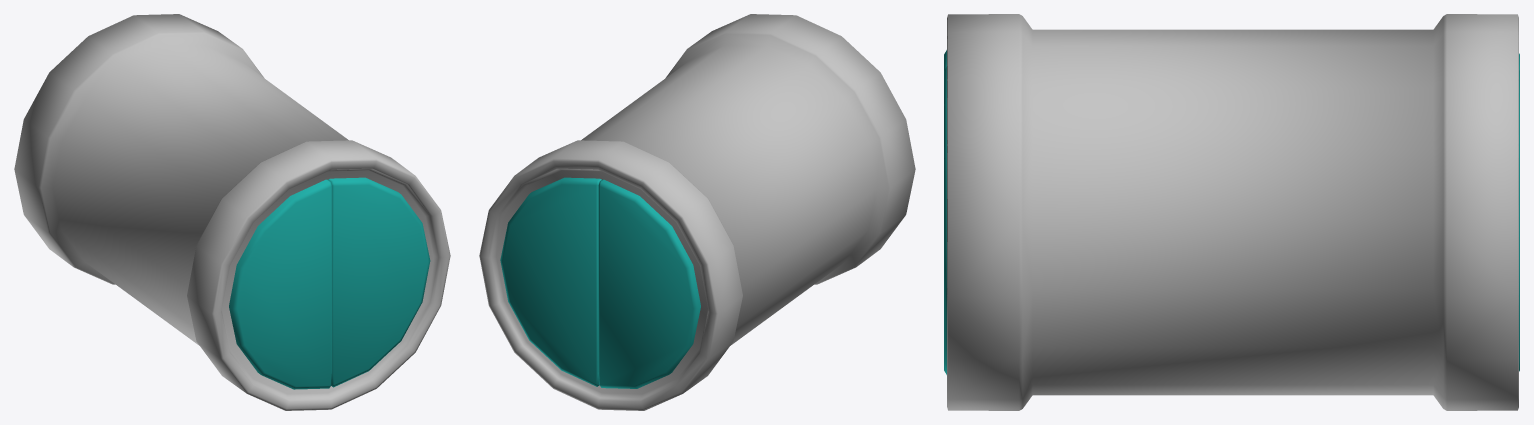
3 views of the same model, side by side, from view 1: azimuth 30°, elevation 25°; view 2: azimuth 150°, elevation 25°; view 3: azimuth 270°, elevation 25° (orthographic). The views are drawn at different scales.
Parts seen in each view (by area): view 1: Section_door.004; view 2: Section_door.004; view 3: Section_door.004.
Boxes of the visible parts, <box> form: Section_door.004: <box>14,14,450,410</box>; Section_door.004: <box>479,14,915,410</box>; Section_door.004: <box>944,14,1519,410</box>.
Bounding box in the file's own units: 3.48 × 3.48 × 5.02.
